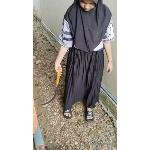Celurit: (38, 66, 64, 108)
